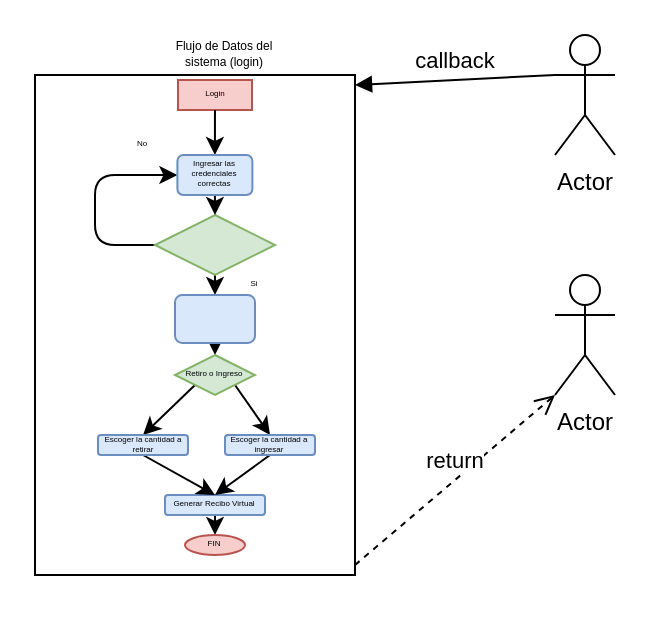
Image size: 650x620. Some labels were removed from this diagram. Each missing label, with the centre of its shape:
"Escoger la operacion a realizar" goes at pixel 214 318.
"Verificar Credenciales" goes at pixel 214 244.
